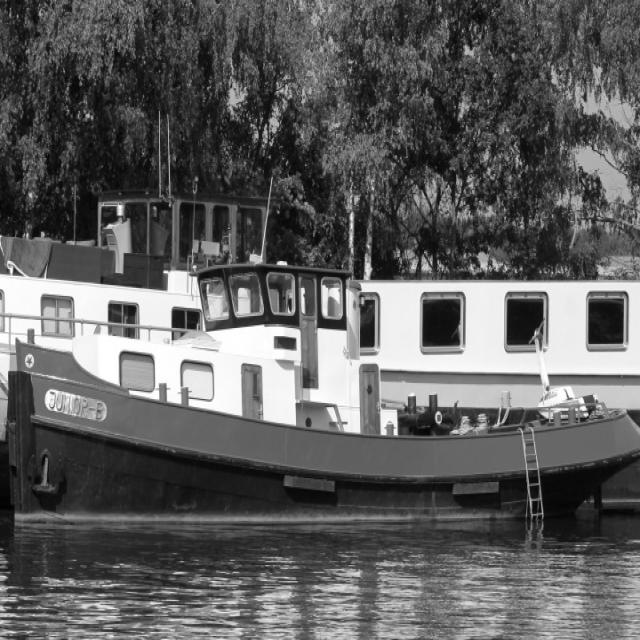tugboat: (1, 253, 640, 565)
